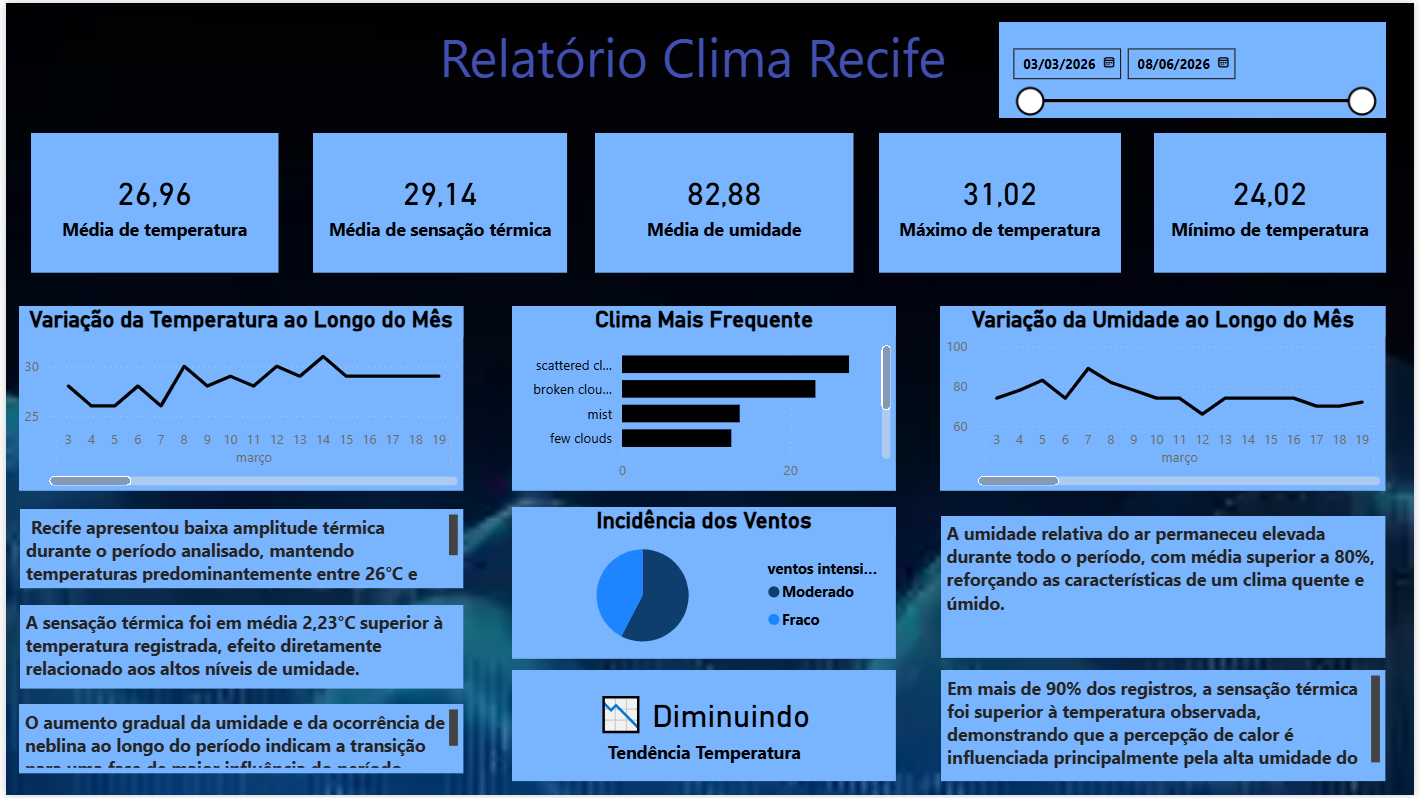

This screenshot's page, from the dashboard's own definition file:
{"tool":"powerbi","page":{"name":"Página 1","canvas":[1280,720],"ordinal":0},"visuals":[{"type":"card","fields":{"Values":["Avg(public clima_recife.temperatura)"]},"box":[23.1,118.2,224.9,127.1],"z":0},{"type":"card","fields":{"Values":["Avg(public clima_recife.sensacao_termica)"]},"box":[279.1,118.2,231.1,127.1],"z":1000},{"type":"card","fields":{"Values":["Avg(public clima_recife.umidade)"]},"box":[535.1,118.2,234.7,127.1],"z":2000},{"type":"textbox","box":[389.1,9.7,491.2,82.7],"z":3000},{"type":"lineChart","title":"Variação da Temperatura ao Longo do Mês","fields":{"Y":["Sum(public clima_recife.temperatura)"],"Category":["public clima_recife.data_coleta.Variation.Hierarquia de datas.Mês","public clima_recife.data_coleta.Variation.Hierarquia de datas.Dia"]},"box":[11.6,275.6,403.6,168],"z":4000},{"type":"slicer","fields":{"Values":["public clima_recife.data_coleta"]},"box":[902.9,17,351.2,86.8],"z":5000},{"type":"barChart","title":"Clima Mais Frequente","fields":{"Category":["public clima_recife.descricao"],"Y":["CountNonNull(public clima_recife.descricao)"]},"box":[459.6,275.6,349.3,168],"z":6000},{"type":"lineChart","title":"Variação da Umidade ao Longo do Mês","fields":{"Y":["Sum(public clima_recife.umidade)"],"Category":["public clima_recife.data_coleta.Variation.Hierarquia de datas.Mês","public clima_recife.data_coleta.Variation.Hierarquia de datas.Dia"]},"box":[848.9,275.6,405.3,168],"z":7000},{"type":"card","fields":{"Values":["Min(public clima_recife.temperatura)"]},"box":[1043.6,118.2,210.7,127.1],"z":8000},{"type":"card","fields":{"Values":["Max(public clima_recife.temperatura)"]},"box":[793.8,118.2,219.6,127.1],"z":9000},{"type":"textbox","box":[12.4,459.6,402.7,72],"z":10000},{"type":"textbox","box":[12.4,547.6,402.7,75.6],"z":11000},{"type":"textbox","box":[849.8,466.7,404.4,128.9],"z":12000},{"type":"pieChart","title":"Incidência dos Ventos","fields":{"Category":["public clima_recife.ventos_intensidade"],"Y":["CountNonNull(public clima_recife.ventos_intensidade)"]},"box":[459.6,457.8,349.3,137.8],"z":13000},{"type":"card","fields":{"Values":["public clima_recife.Tendência Temperatura"]},"box":[459.6,606.2,349.3,101.3],"z":14000},{"type":"textbox","box":[11.6,637.3,403.6,63.1],"z":15000},{"type":"textbox","box":[849.8,606.2,404.4,101.3],"z":16000}]}

Visuals, with their boxes in screenshot pixels (x1, y1, x2, y2), scaled from the page's 1280x720 canvas onto the 1420x798 screenshot:
card - Avg(public clima_recife.temperatura): left=26, top=131, right=275, bottom=272
card - Avg(public clima_recife.sensacao_termica): left=310, top=131, right=566, bottom=272
card - Avg(public clima_recife.umidade): left=594, top=131, right=854, bottom=272
textbox: left=432, top=11, right=977, bottom=102
"Variação da Temperatura ao Longo do Mês" lineChart: left=13, top=305, right=461, bottom=492
slicer - public clima_recife.data_coleta: left=1002, top=19, right=1391, bottom=115
"Clima Mais Frequente" barChart: left=510, top=305, right=897, bottom=492
"Variação da Umidade ao Longo do Mês" lineChart: left=942, top=305, right=1391, bottom=492
card - Min(public clima_recife.temperatura): left=1158, top=131, right=1391, bottom=272
card - Max(public clima_recife.temperatura): left=881, top=131, right=1124, bottom=272
textbox: left=14, top=509, right=461, bottom=589
textbox: left=14, top=607, right=461, bottom=691
textbox: left=943, top=517, right=1391, bottom=660
"Incidência dos Ventos" pieChart: left=510, top=507, right=897, bottom=660
card - public clima_recife.Tendência Temperatura: left=510, top=672, right=897, bottom=784
textbox: left=13, top=706, right=461, bottom=776
textbox: left=943, top=672, right=1391, bottom=784
